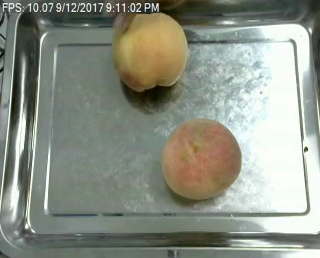Peach: (161, 118, 242, 199), (112, 10, 189, 90)
